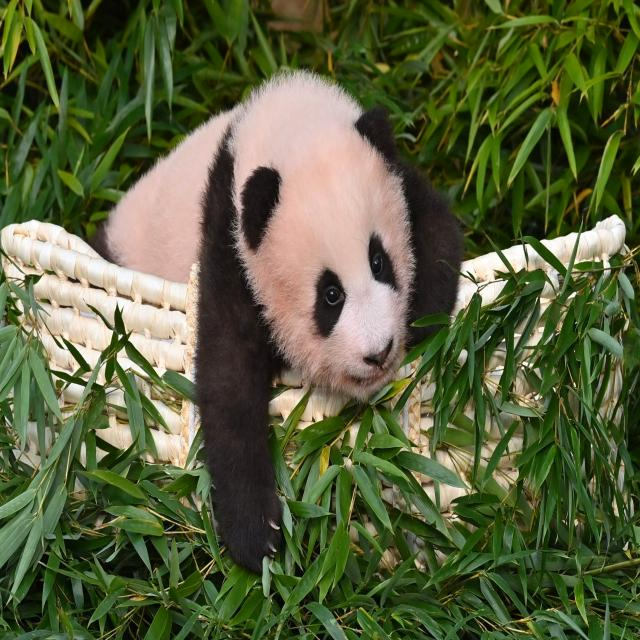panda: (89, 71, 463, 573)
